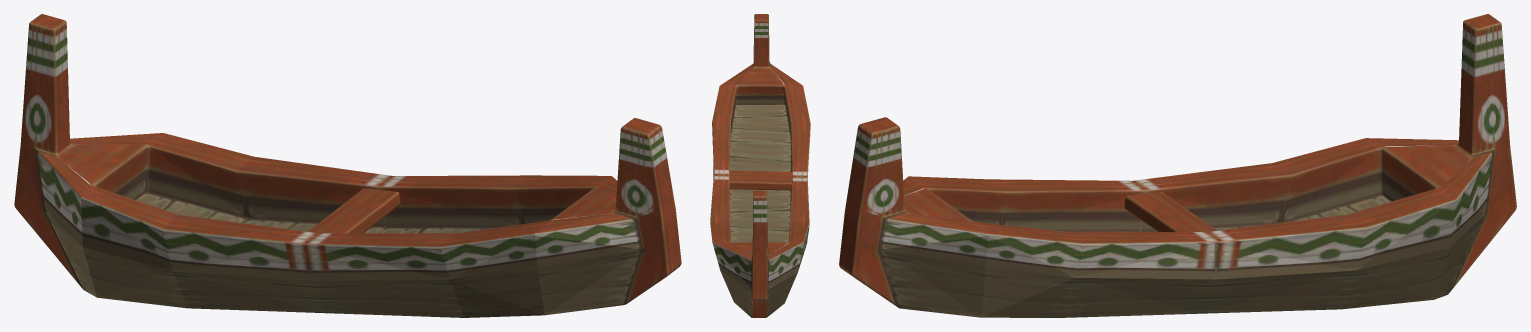
File: outset island.fbx
The picture shows the model from 3 angles, left to right: view 1: azimuth 30°, elevation 25°; view 2: azimuth 150°, elevation 25°; view 3: azimuth 270°, elevation 25°; orthographic projection. The views are drawn at different scales.
Visible parts, largest first — view 1: life Boat.002; view 2: life Boat.002; view 3: life Boat.002.
Part boxes in pixels (box(x1,y1,x2,y2)): life Boat.002: box(14, 14, 681, 317); life Boat.002: box(710, 14, 810, 317); life Boat.002: box(839, 14, 1516, 317).
Size of the model in its own units: 1142854 by 932294 by 1909230.
